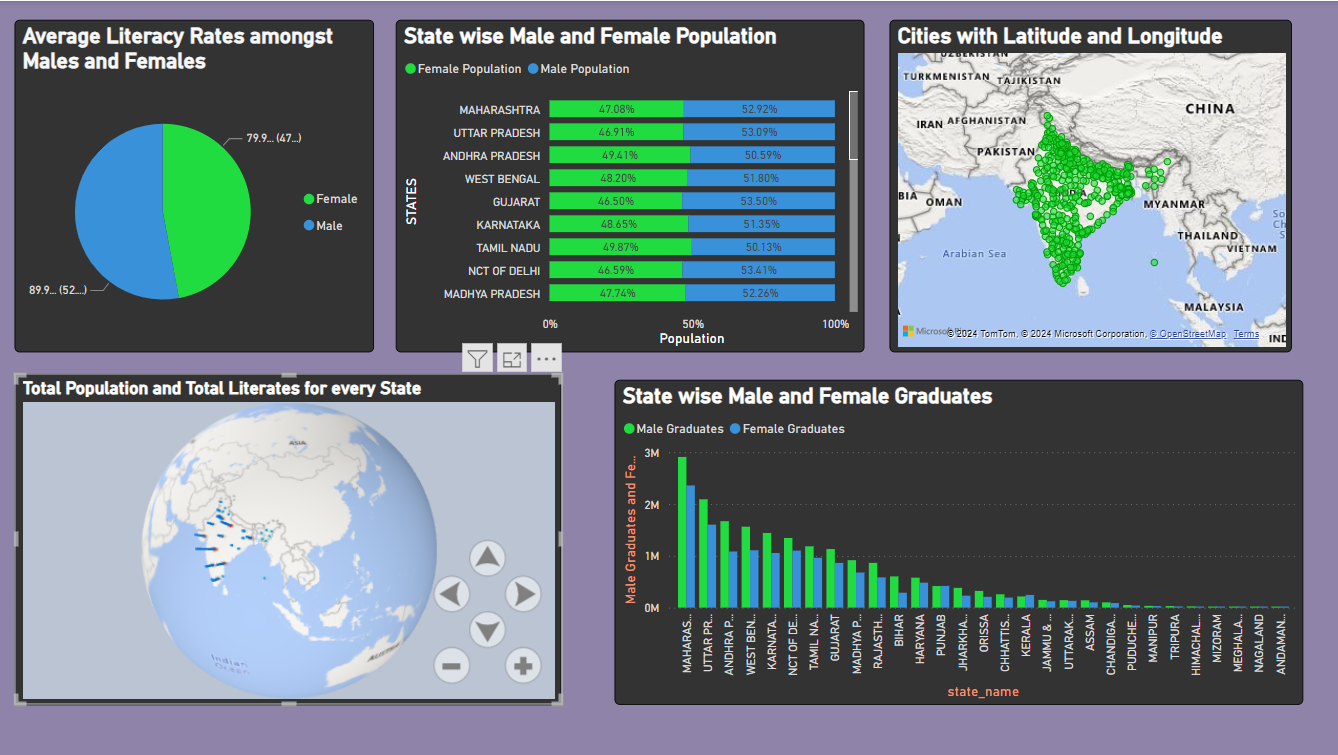

What the dashboard file says about the page in this screenshot:
{"tool":"powerbi","page":{"name":"Page 2","canvas":[1280,720],"ordinal":1},"visuals":[{"type":"pieChart","title":"Average Literacy Rates amongst Males and Females","fields":{"Y":["Avg(preprocessed_indian_cities_dataset.effective_literacy_rate_female)","Avg(preprocessed_indian_cities_dataset.effective_literacy_rate_male)"]},"box":[16.9,18.1,342.5,317.2],"z":0},{"type":"clusteredColumnChart","title":"State wise Male and Female Graduates","fields":{"Category":["preprocessed_indian_cities_dataset.state_name"],"Y":["Sum(preprocessed_indian_cities_dataset.male_graduates)","Sum(preprocessed_indian_cities_dataset.female_graduates)"]},"box":[588.5,360.6,656.1,309.9],"z":1000},{"type":"hundredPercentStackedBarChart","title":"State wise Male and Female Population","fields":{"Category":["preprocessed_indian_cities_dataset.state_name"],"Y":["Sum(preprocessed_indian_cities_dataset.population_female)","Sum(preprocessed_indian_cities_dataset.population_male)"]},"box":[379.9,18.1,446.2,317.2],"z":2000},{"type":"map","title":"Cities with Latitude and Longitude","fields":{"X":["Avg(preprocessed_indian_cities_dataset.longitude)"],"Y":["Avg(preprocessed_indian_cities_dataset.latitude)"],"Category":["preprocessed_indian_cities_dataset.name_of_city"]},"box":[850.3,18.1,383.5,317.2],"z":3000},{"type":"GlobeMap1447669447625","title":"Total Population and Total Literates for every State","fields":{"Y":["preprocessed_indian_cities_dataset.latitude"],"Height":["Sum(preprocessed_indian_cities_dataset.population_total)"],"Heat":["Sum(preprocessed_indian_cities_dataset.literates_total)"],"Location":["preprocessed_indian_cities_dataset.state_name"],"X":["preprocessed_indian_cities_dataset.longitude"]},"box":[16.9,354.6,521,316],"z":4000}]}

Visuals, with their boxes in screenshot pixels (x1, y1, x2, y2), scaled from the page's 1280x720 canvas onto the 1338x755 screenshot:
"Average Literacy Rates amongst Males and Females" pieChart: locate(18, 19, 376, 352)
"State wise Male and Female Graduates" clusteredColumnChart: locate(615, 378, 1301, 703)
"State wise Male and Female Population" hundredPercentStackedBarChart: locate(397, 19, 864, 352)
"Cities with Latitude and Longitude" map: locate(889, 19, 1290, 352)
"Total Population and Total Literates for every State" GlobeMap1447669447625: locate(18, 372, 562, 703)
